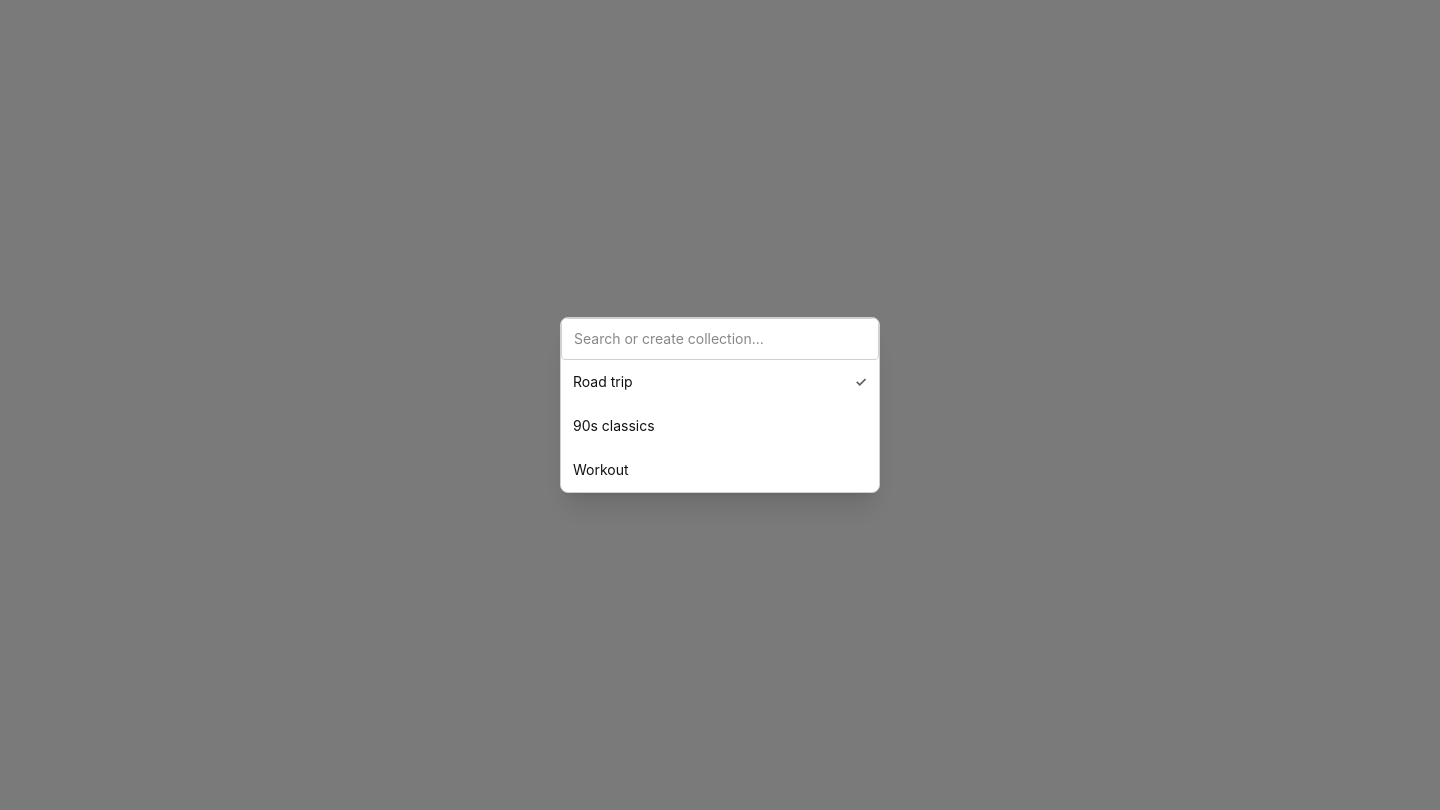
Scenario: CollectionPicker › shows "Create [name]" row when search does not match any collection
This screenshot has width=1440, height=810.
Type "Chill vibes" into the field with placeholder "Search or create collection..." at (720, 339), box [561,318,879,360]
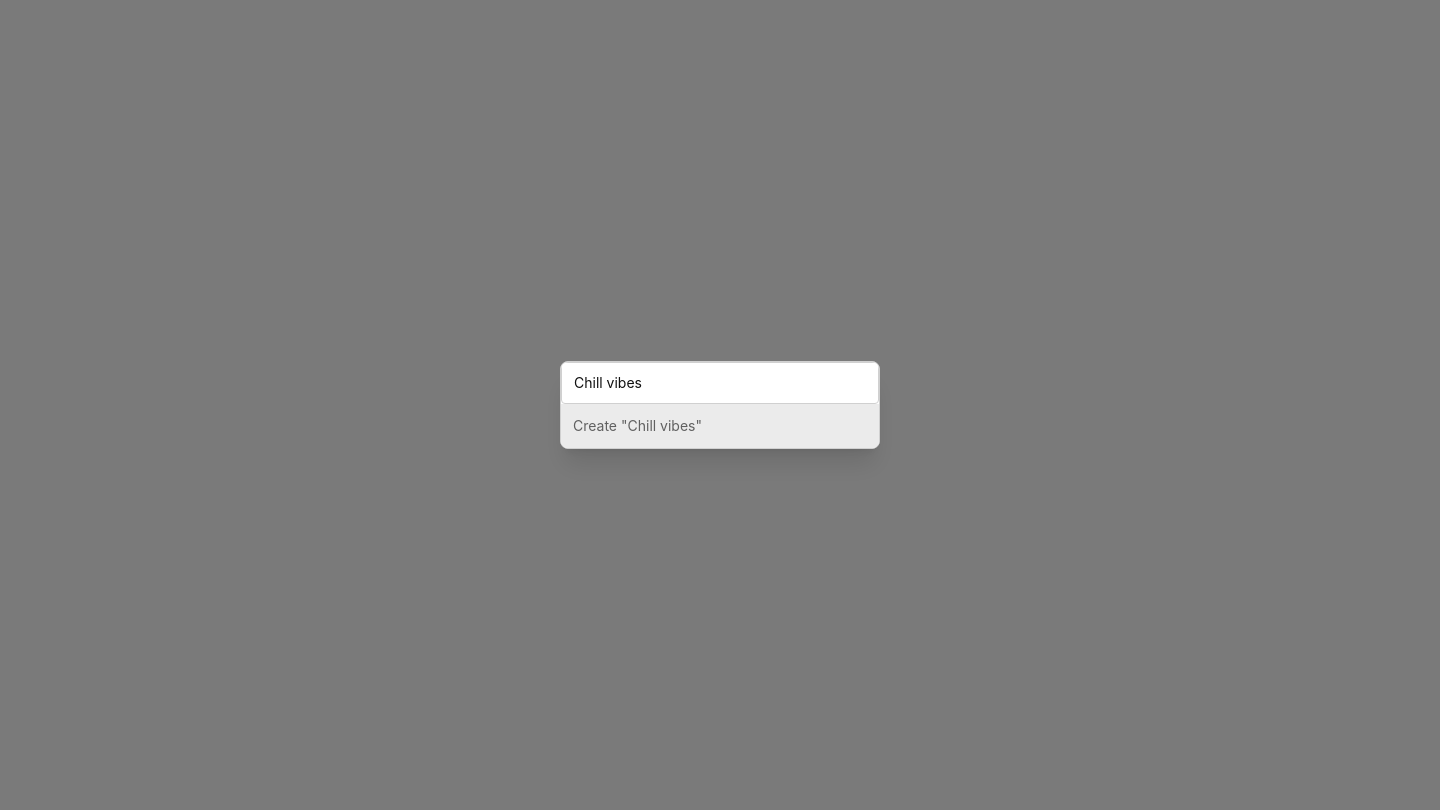
Result: the option "Create \"Chill vibes\"" is shown at [561,404,879,448]
